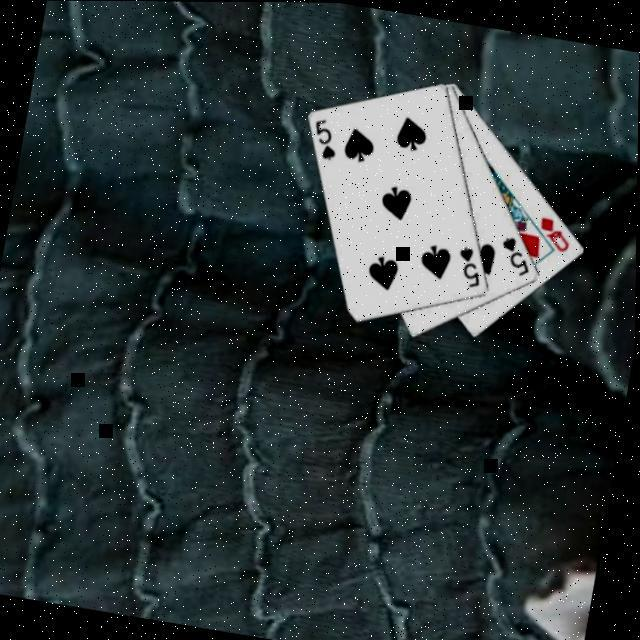5S: (496, 230, 542, 278), (454, 240, 492, 290), (310, 113, 348, 162)
QD: (536, 211, 580, 254)
